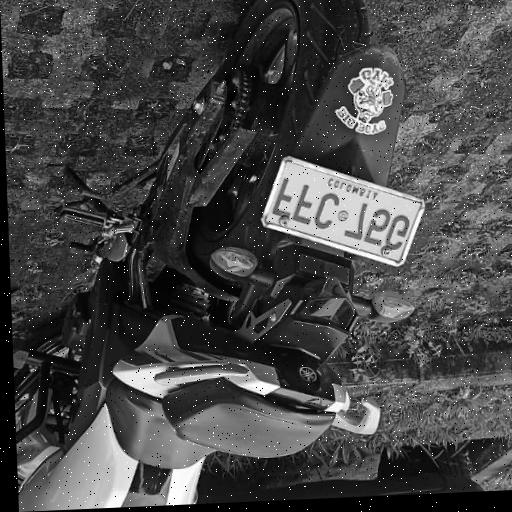placa: (260, 156, 426, 270)
